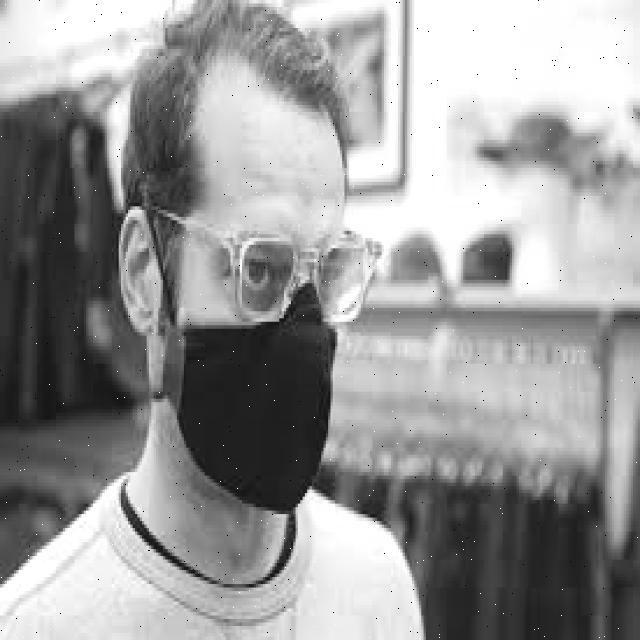fake: (153, 310, 363, 537)
real: (170, 58, 343, 519)
